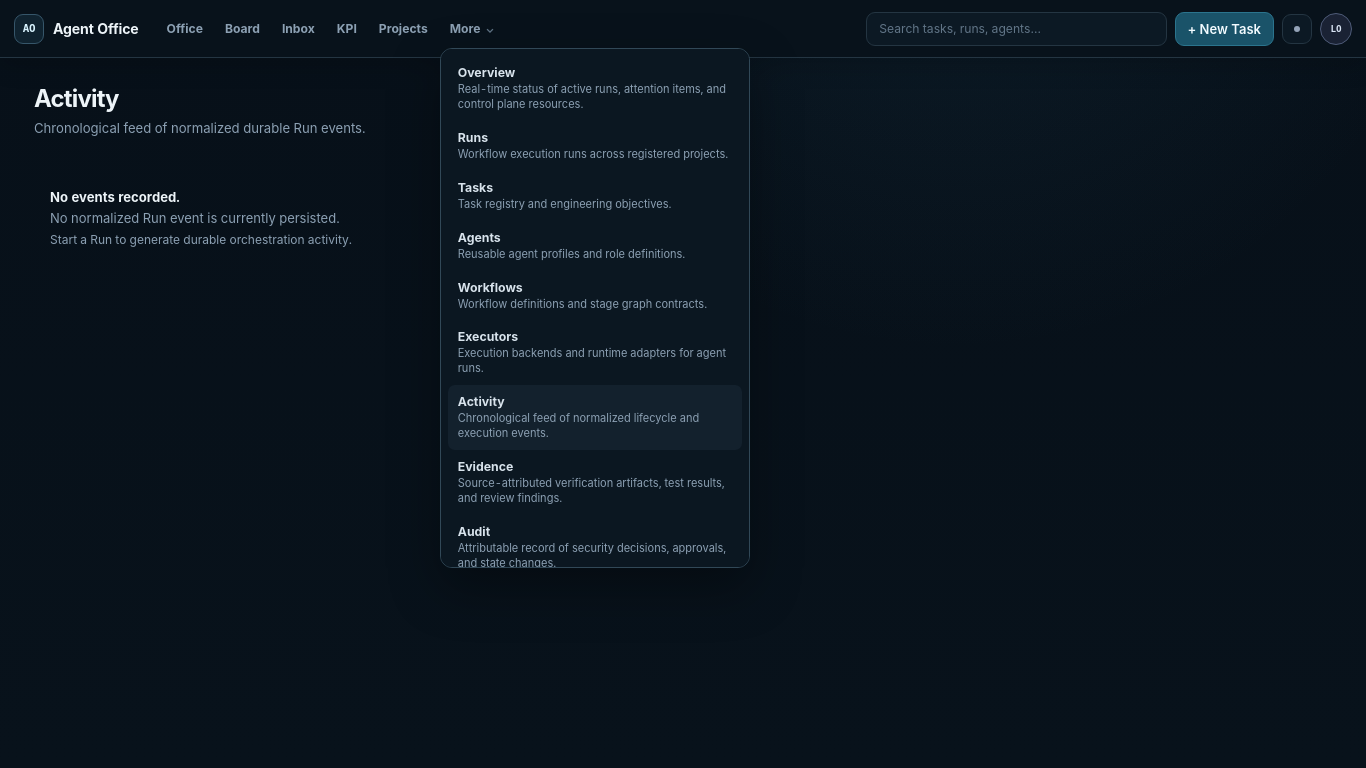
Test: Agent Office operational shell › loads observability registries from durable backend sources
Expected: the heading "No events recorded." is shown, [50,189,180,205]
Click the link "Evidence" at (595, 482), box [448,450,742,515]
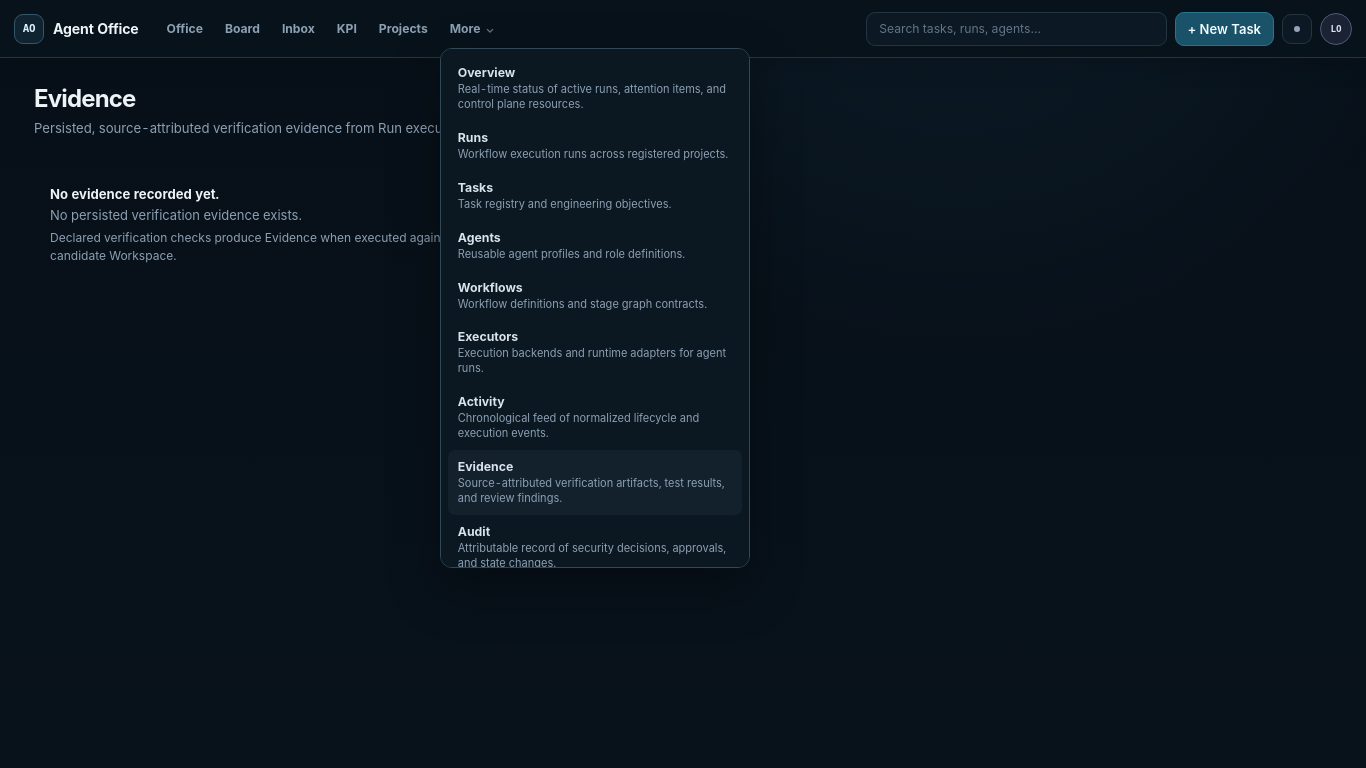
Expected: the heading "No evidence recorded yet." is shown, [50,186,219,202]
Click the link "Audit" at (595, 547), box [448,515,742,580]
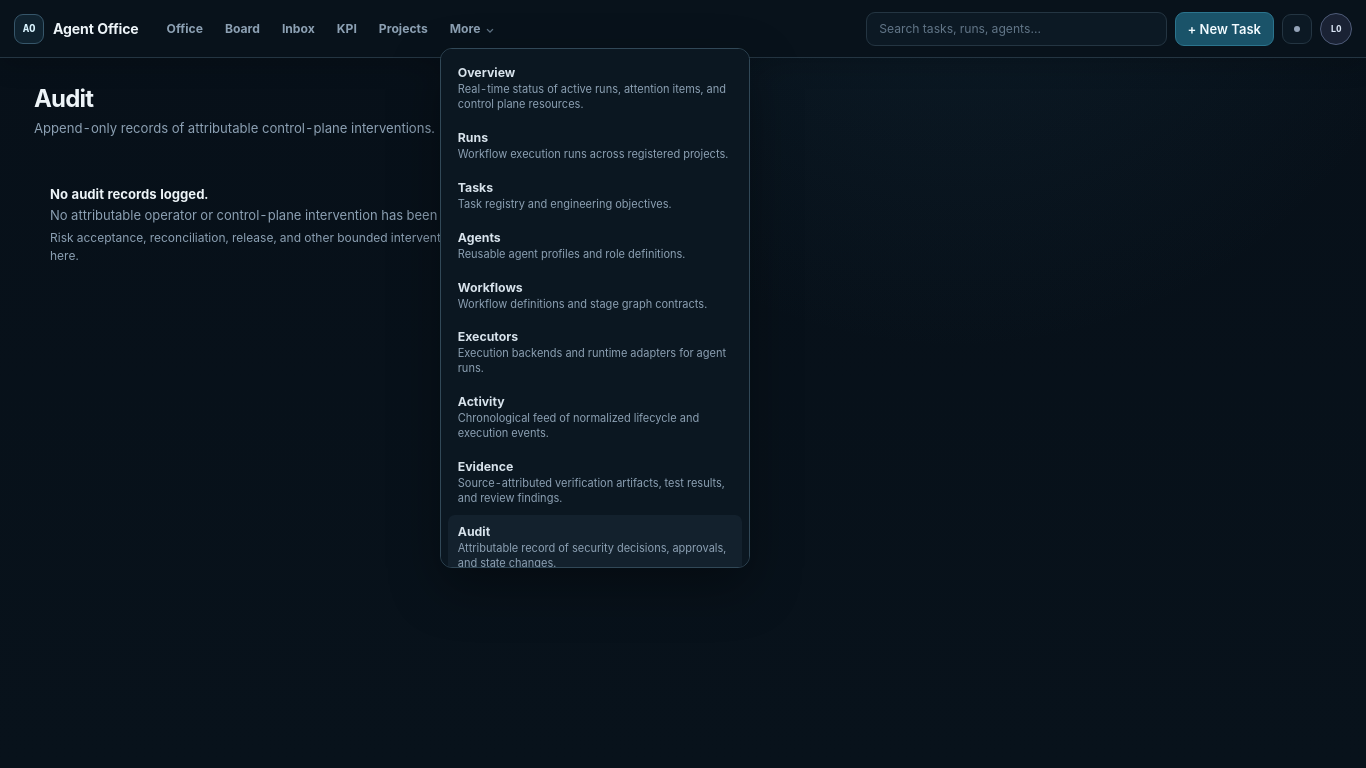
Expected: the heading "No audit records logged." is shown, [50,186,208,202]
